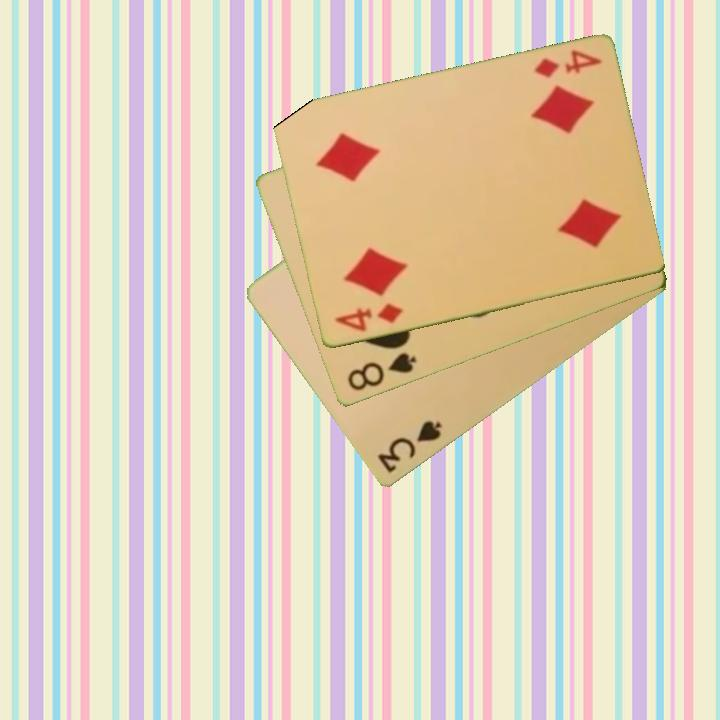3s: (374, 417, 445, 477)
4d: (330, 300, 406, 335), (530, 46, 604, 81)
8s: (343, 349, 419, 395)
